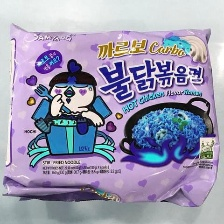snack: (0, 15, 224, 211)
